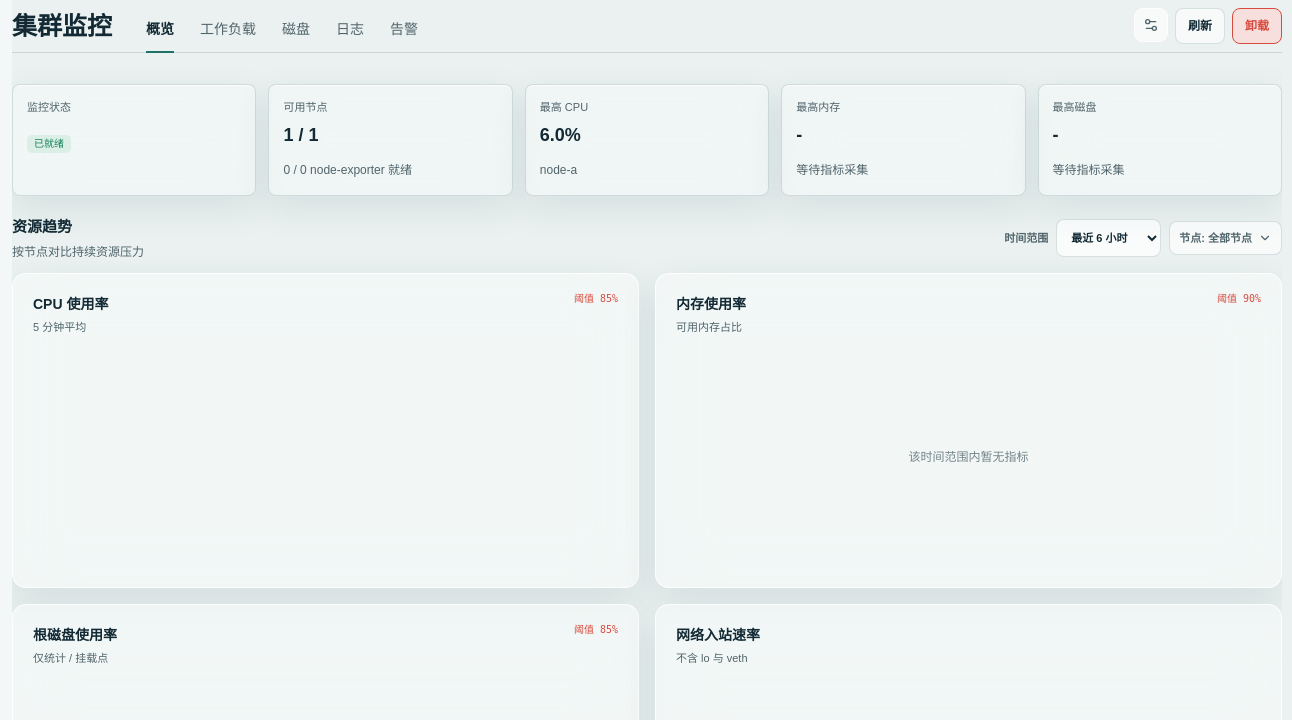
Scenario: Monitoring view › keeps the latest trend range when an earlier trend response resolves late
This screenshot has width=1292, height=720.
Select "最近 24 小时" in the dropdown with class "trend-range-select" at (1109, 238), box [1056,219,1161,257]
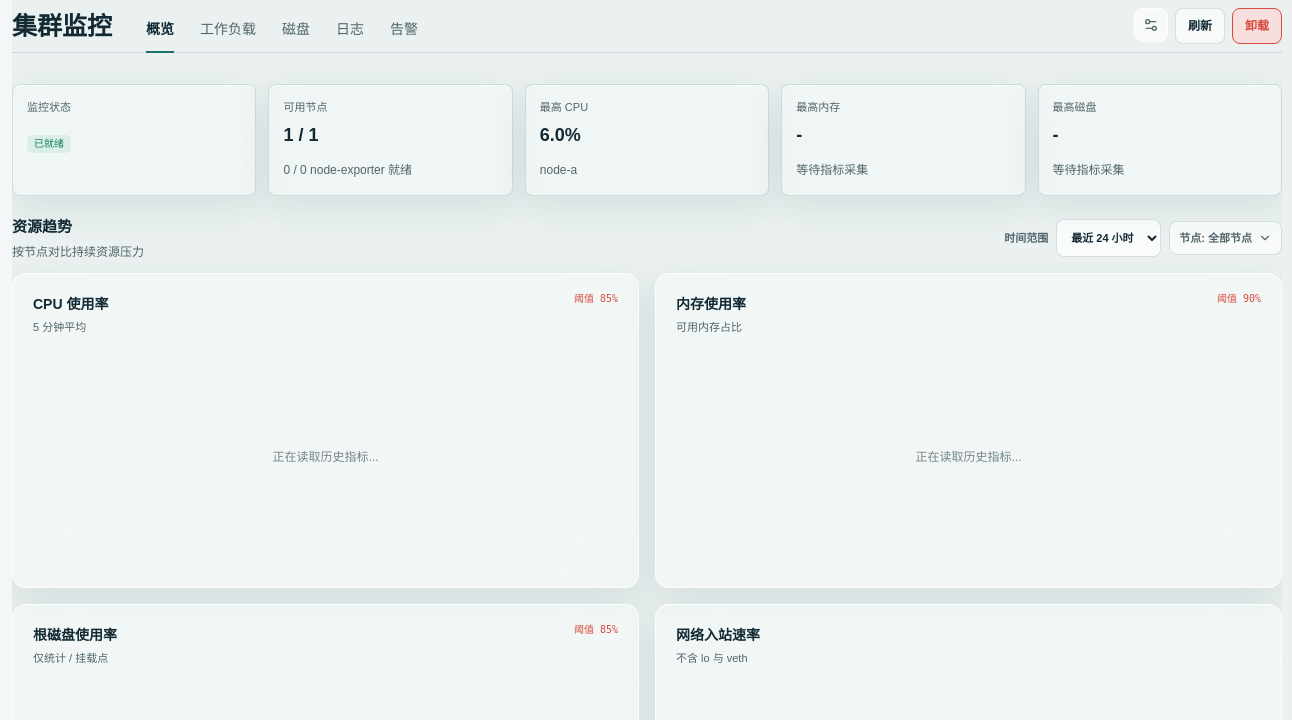
Select "最近 7 天" in the dropdown with class "trend-range-select" at (1109, 238), box [1056,219,1161,257]
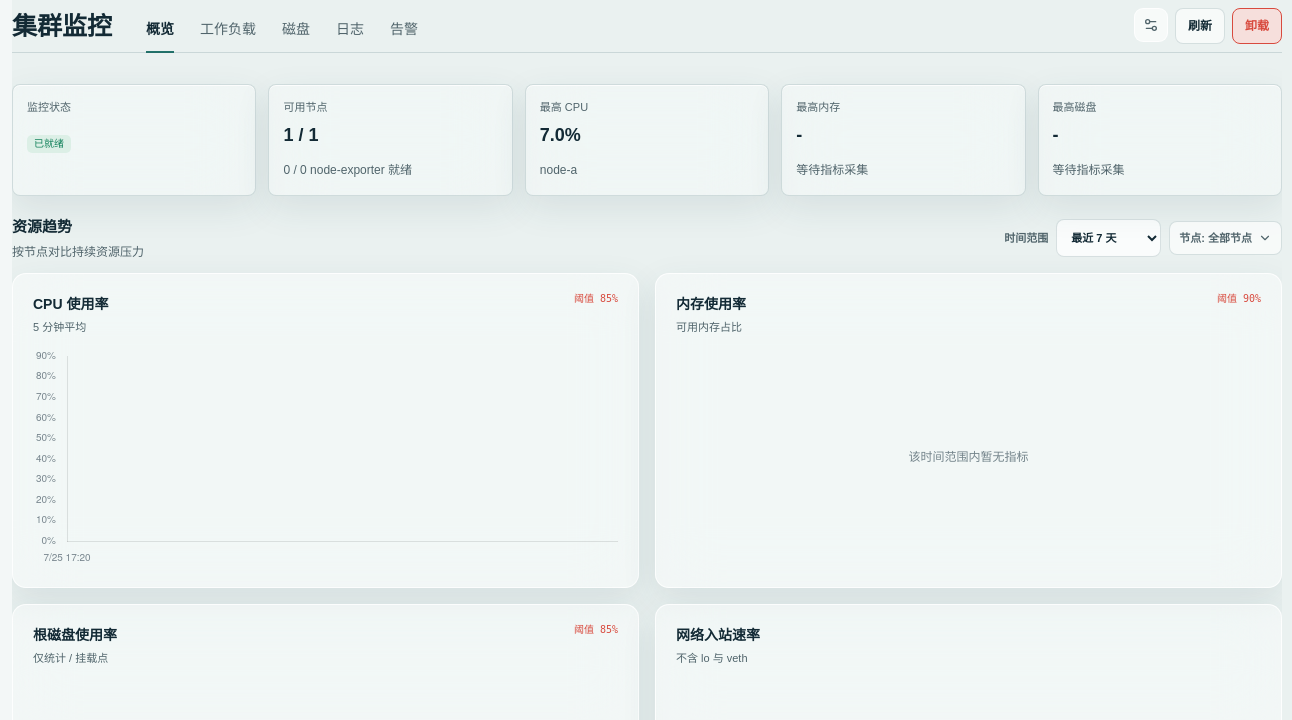
Expected: the text "7.0%" is shown, [540,125,581,145]
Expected: the text "6.0%" is gone
